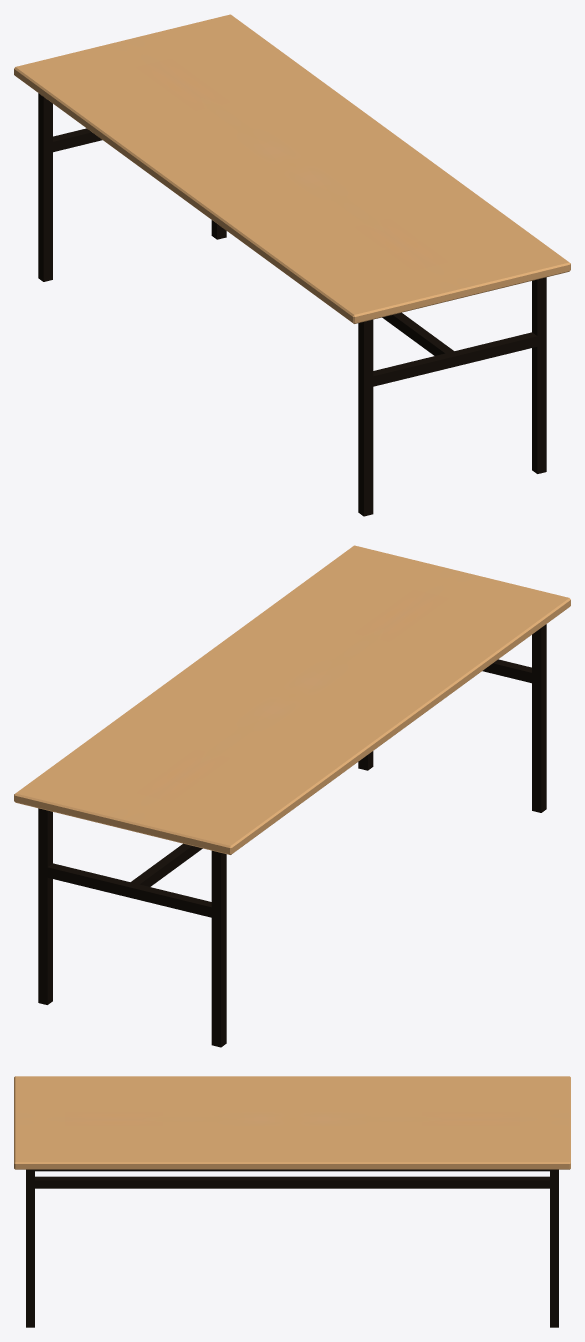
Rendered from Desk.glb.
3 renders of one model, top to bottom at view 1: azimuth 30°, elevation 25°; view 2: azimuth 150°, elevation 25°; view 3: azimuth 270°, elevation 25°, orthographic. The views are drawn at different scales.
Visible parts, largest first — view 1: Desk; view 2: Desk; view 3: Desk.
Boxes of the visible parts, x1,y1,x2,y2 form: Desk: [14, 14, 570, 516]; Desk: [14, 545, 570, 1047]; Desk: [14, 1076, 570, 1327].
Bounding box in the file's own units: 222 × 205 × 600.
1 material, 1 textured.
